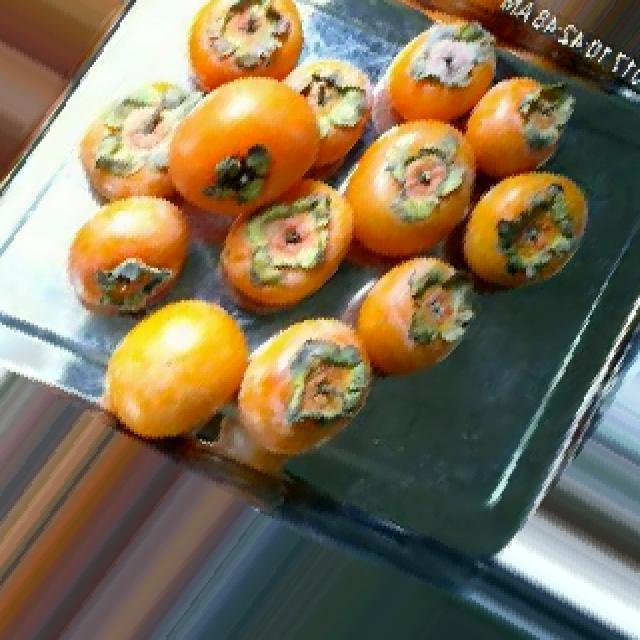Fruit: (84, 273, 266, 466), (334, 236, 498, 399), (168, 0, 320, 109)
